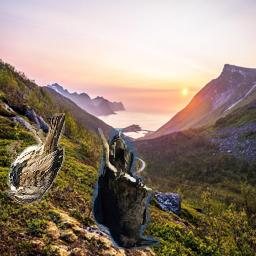Crow: (92, 129, 160, 250)
Sparrow: (3, 113, 65, 205)
